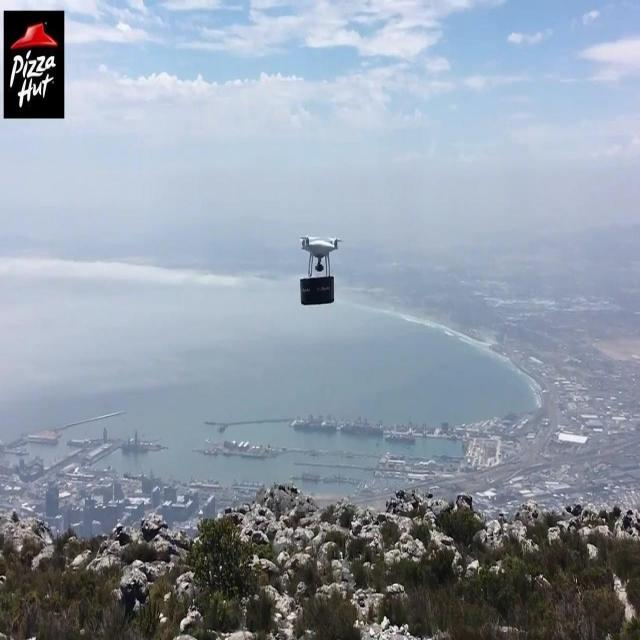UAV: (298, 236, 342, 276)
